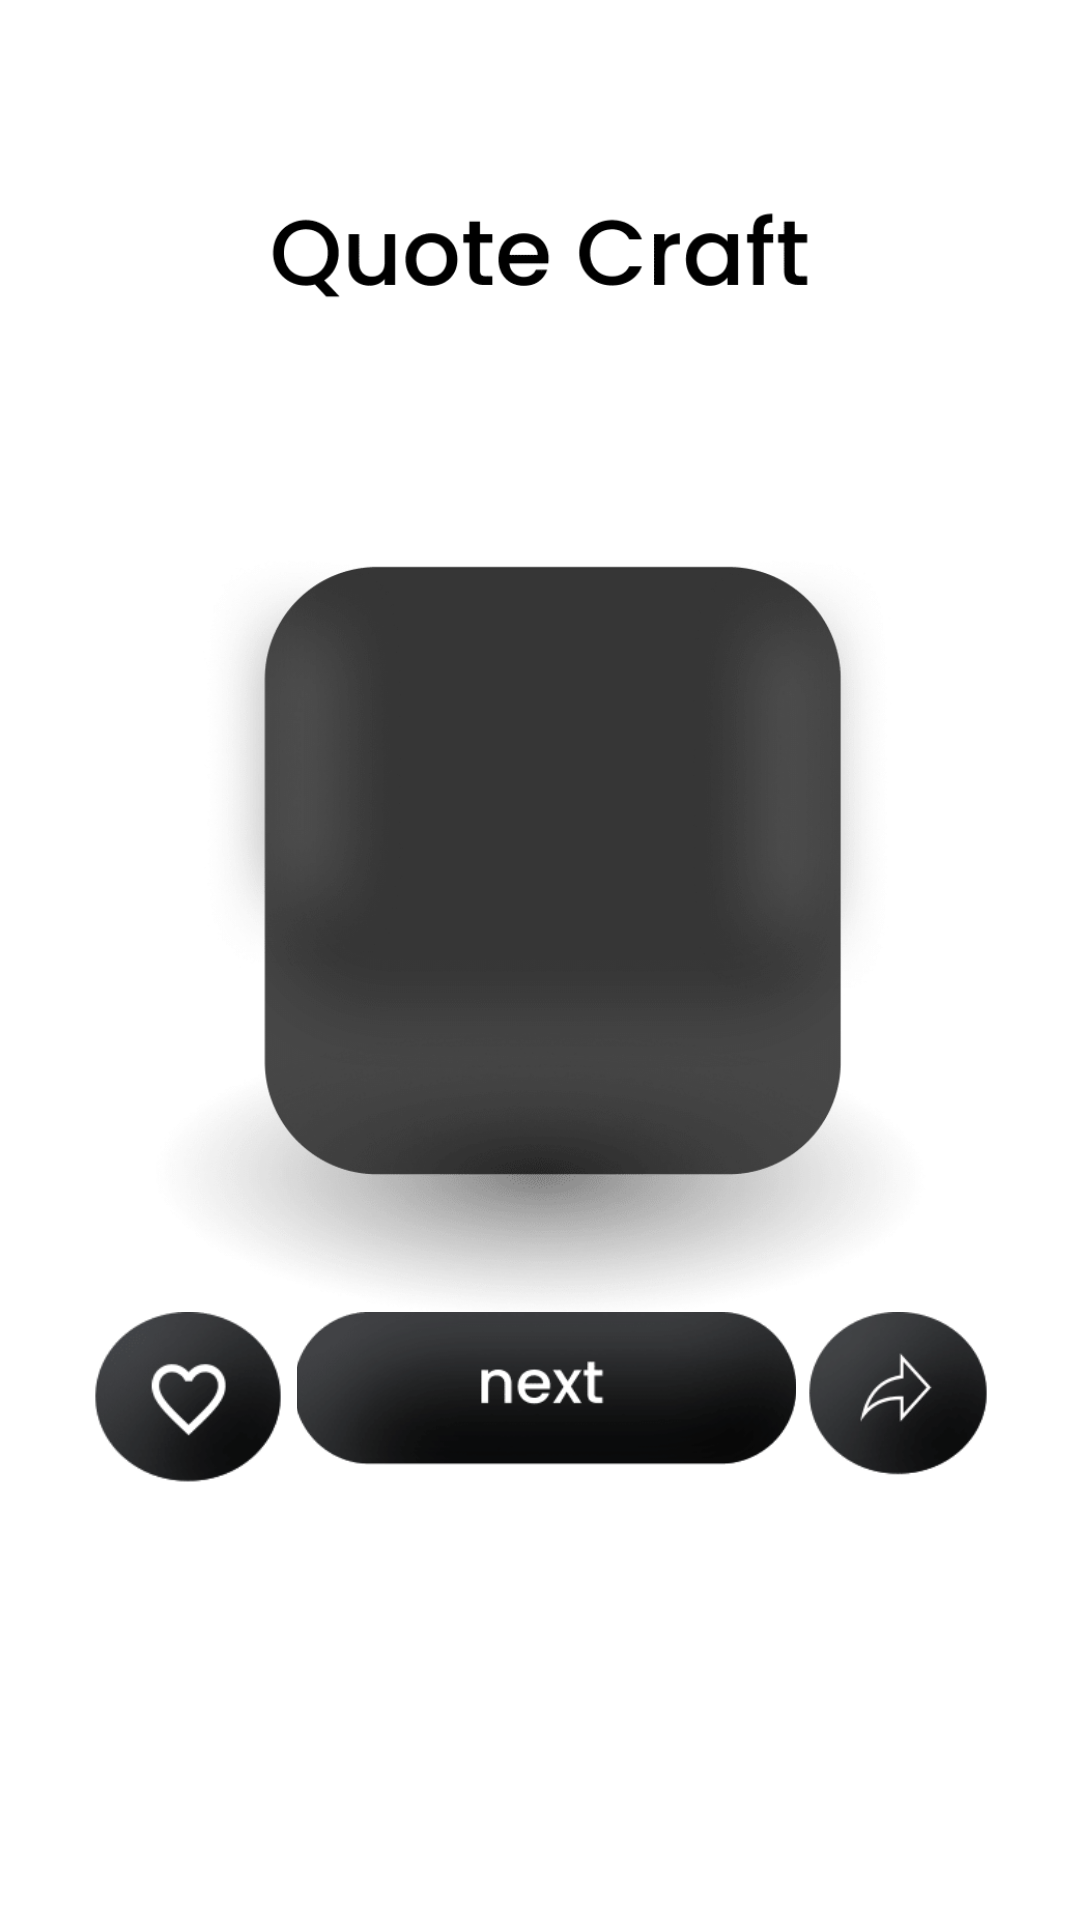

Where to tap for icons on this 1080x1920 app screen, as (x=x, y=y):
sharehd: (x=898, y=1393)
